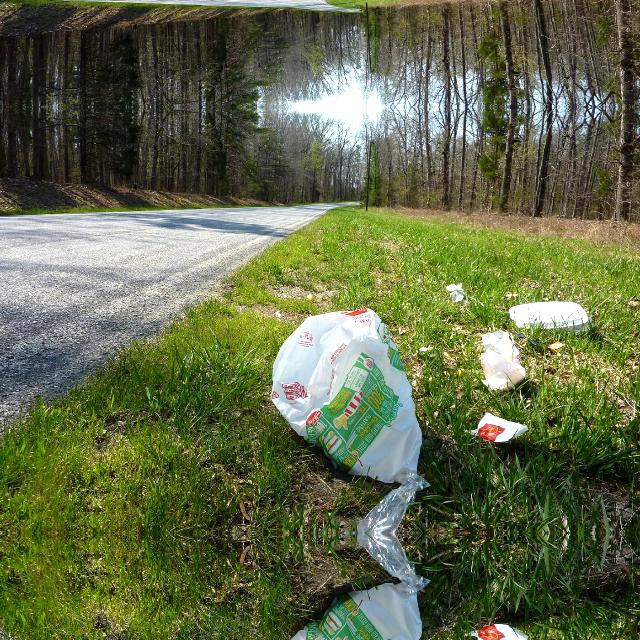Paper: (504, 292, 592, 340), (474, 325, 532, 397), (445, 276, 467, 304)
Plastic: (264, 306, 432, 532), (264, 532, 432, 640), (461, 407, 533, 447), (461, 618, 533, 640)
